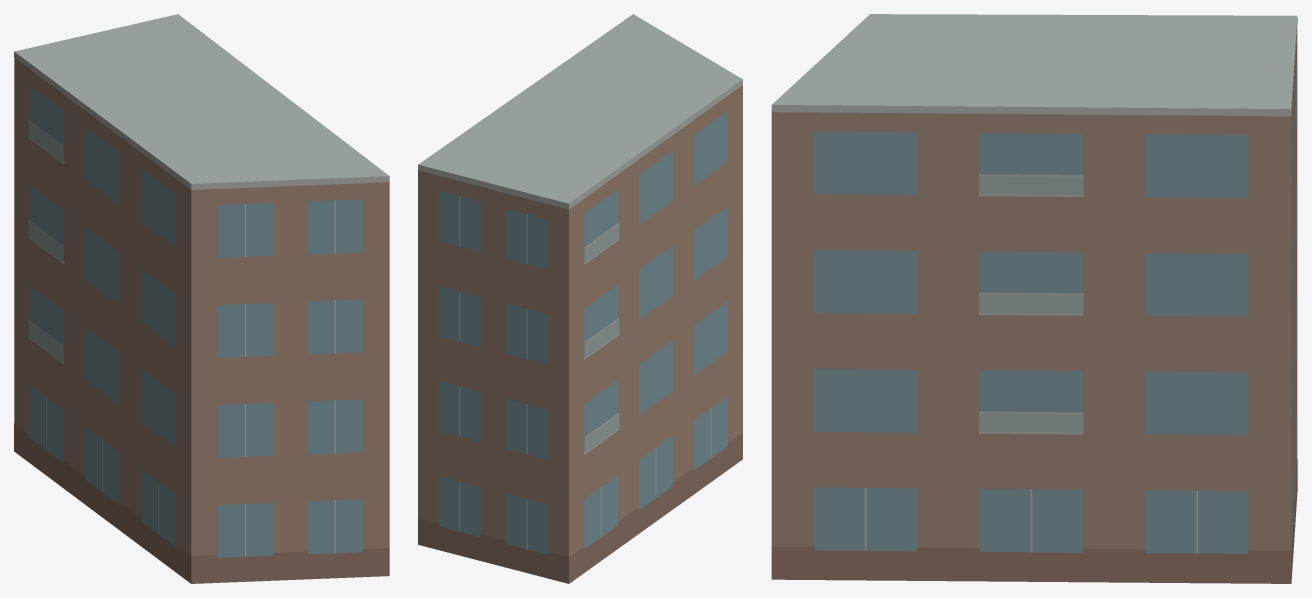
Rendered from survey-upis-32494053.glb.
3 views of the same model, side by side, from view 1: azimuth 30°, elevation 25°; view 2: azimuth 150°, elevation 25°; view 3: azimuth 270°, elevation 25° (orthographic). The views are drawn at different scales.
Parts seen in each view (by area): view 1: survey-upis-32494053.tmp; view 2: survey-upis-32494053.tmp; view 3: survey-upis-32494053.tmp.
Boxes of the visible parts, left/top/right/bottom form: survey-upis-32494053.tmp: left=14, top=14, right=389, bottom=583; survey-upis-32494053.tmp: left=418, top=14, right=742, bottom=583; survey-upis-32494053.tmp: left=771, top=14, right=1297, bottom=583.
Size of the model in its own units: 6.91 by 16.06 by 16.13.
